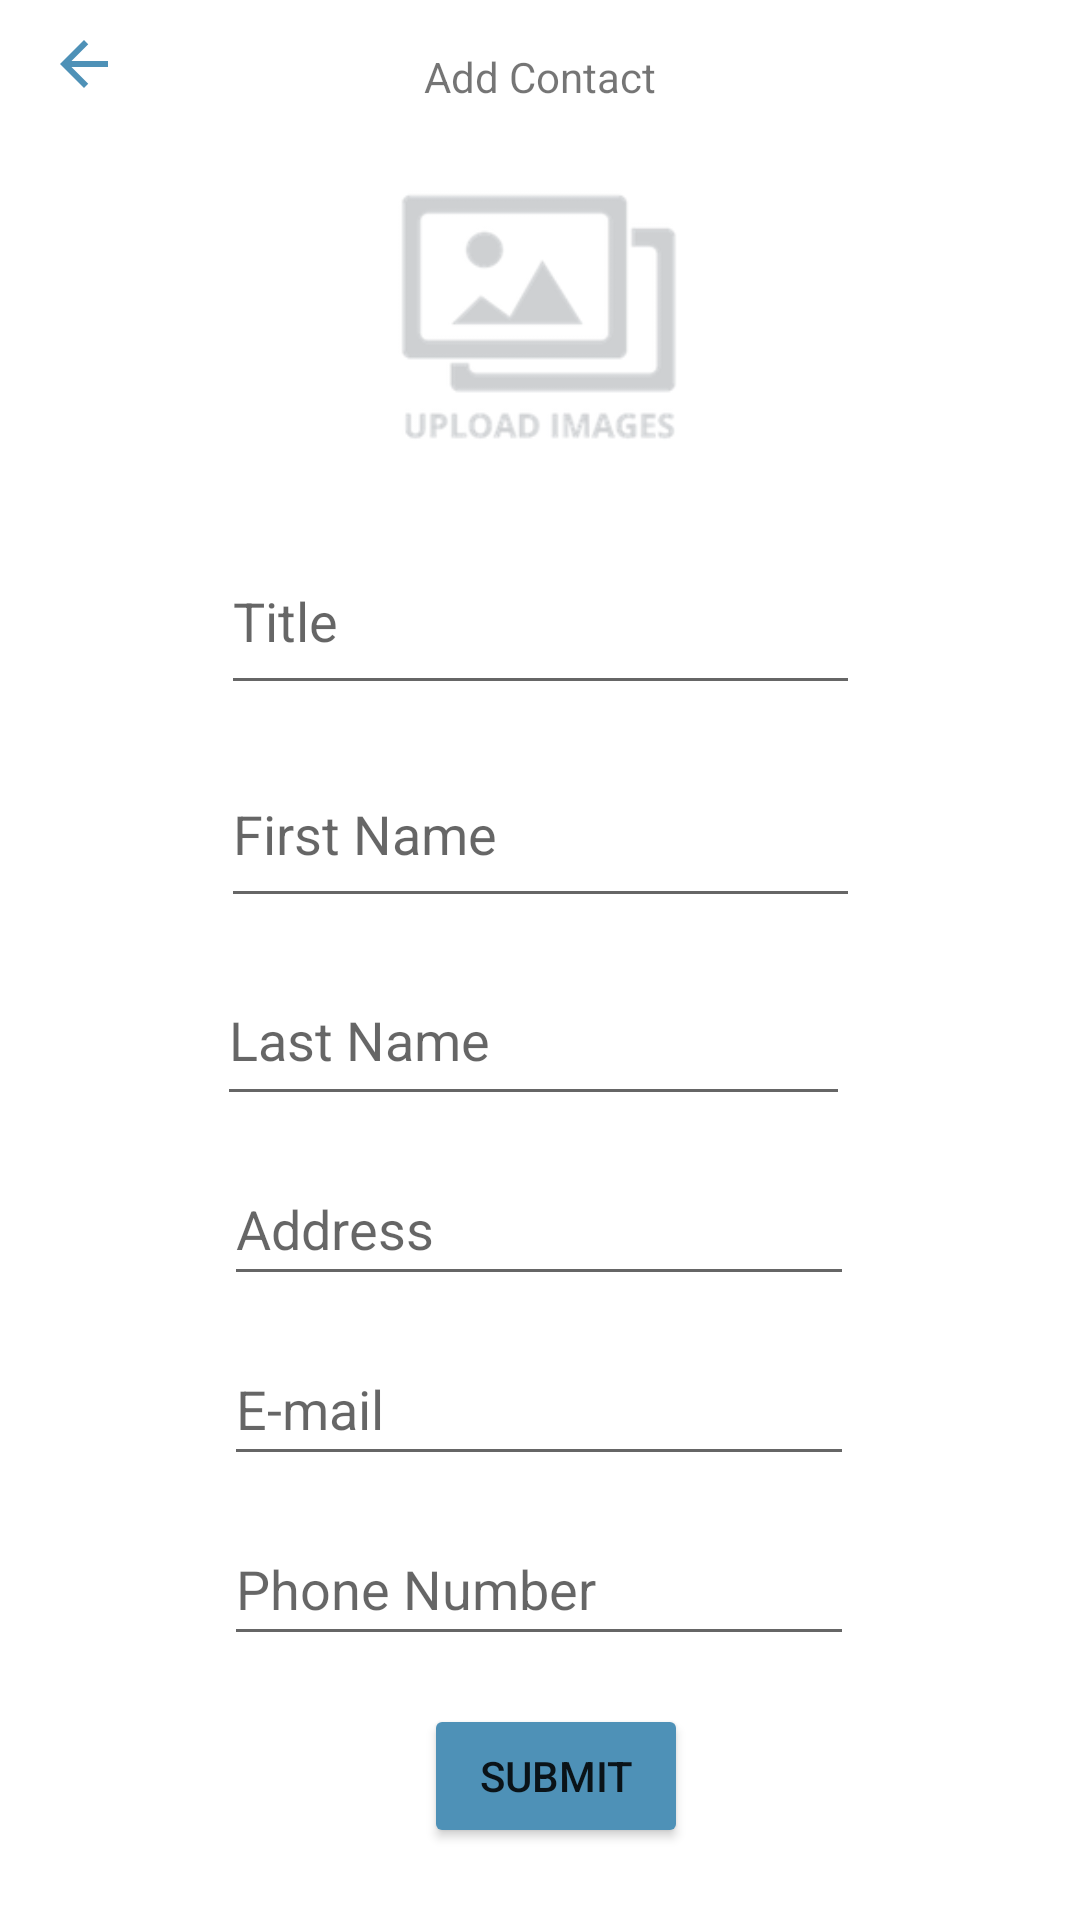

Where icons sit on this 1080 × 1920 app screen, as detection(x1, y1, x2, y2):
Return to previous page: detection(60, 40, 108, 88)
